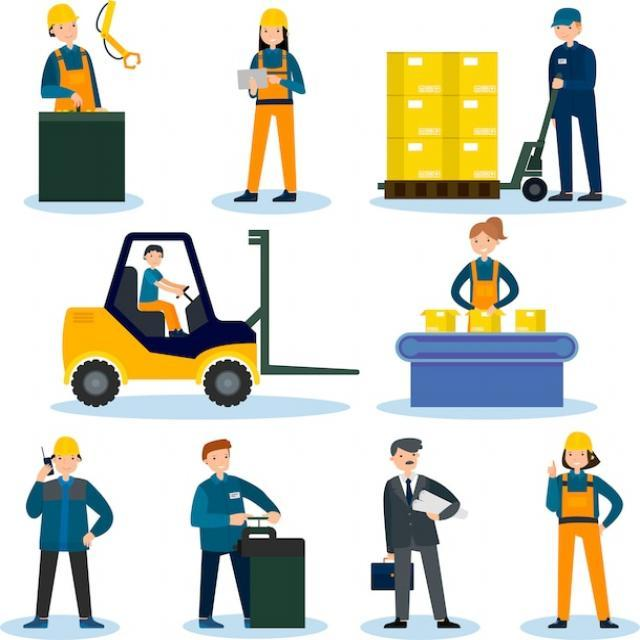safety_helmet: (44, 2, 80, 30), (547, 5, 584, 29), (561, 428, 595, 453), (50, 433, 82, 459), (257, 5, 289, 30)
